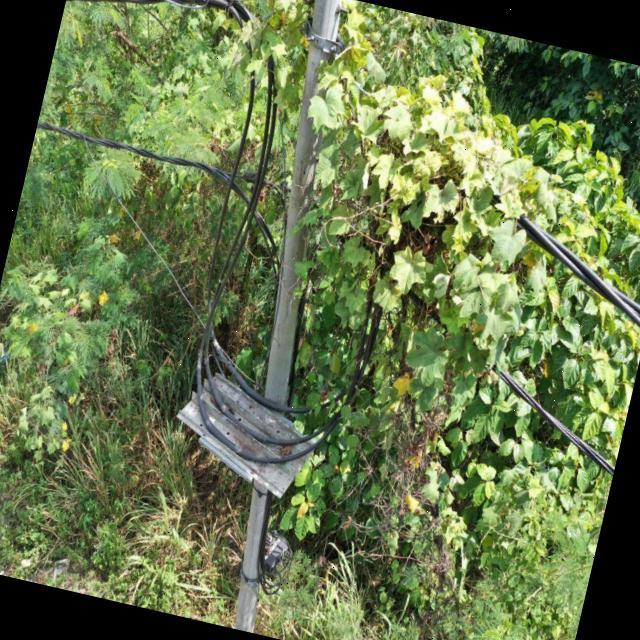critical vegetation: (98, 0, 599, 495)
